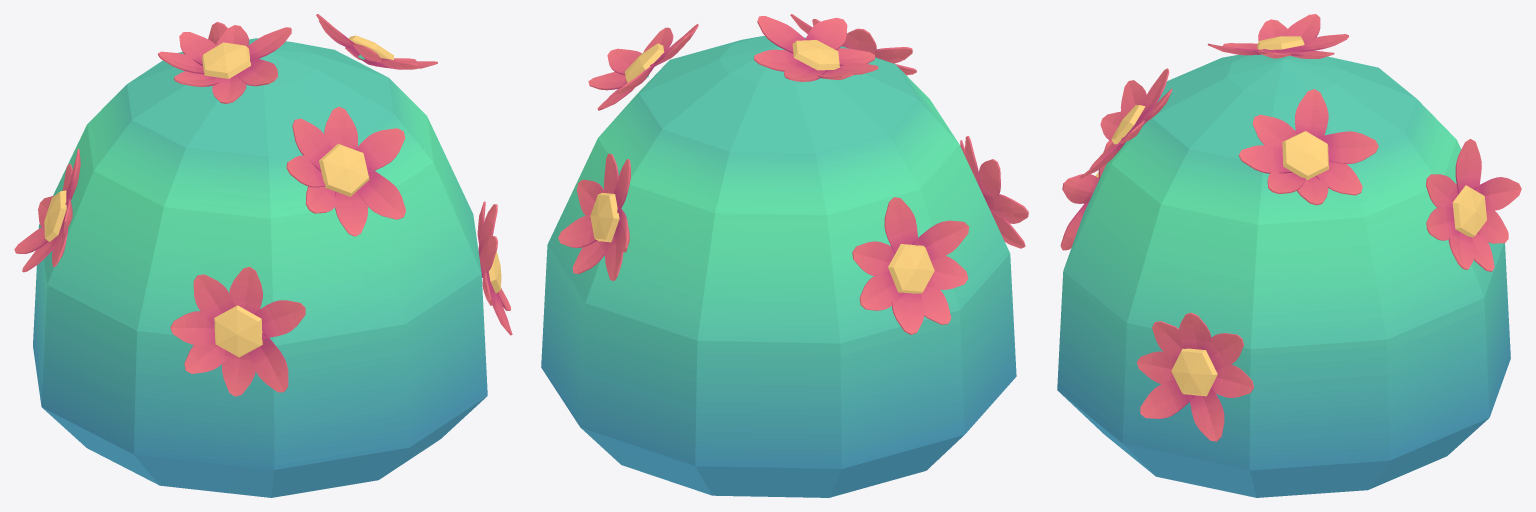
The model's file is flower_bush_blue.glb.
3 views of the same model, side by side, from view 1: azimuth 30°, elevation 25°; view 2: azimuth 150°, elevation 25°; view 3: azimuth 270°, elevation 25° (orthographic). The views are drawn at different scales.
Parts seen in each view (by area): view 1: bush.001; view 2: bush.001; view 3: bush.001.
Part boxes in pixels (x1=…): bush.001: x1=14, y1=14, x2=512, y2=497; bush.001: x1=541, y1=14, x2=1028, y2=497; bush.001: x1=1057, y1=14, x2=1521, y2=497.
Bounding box in the file's own units: 0.717 × 0.6915 × 0.7037.
Materials: 1 (1 with a texture image).
